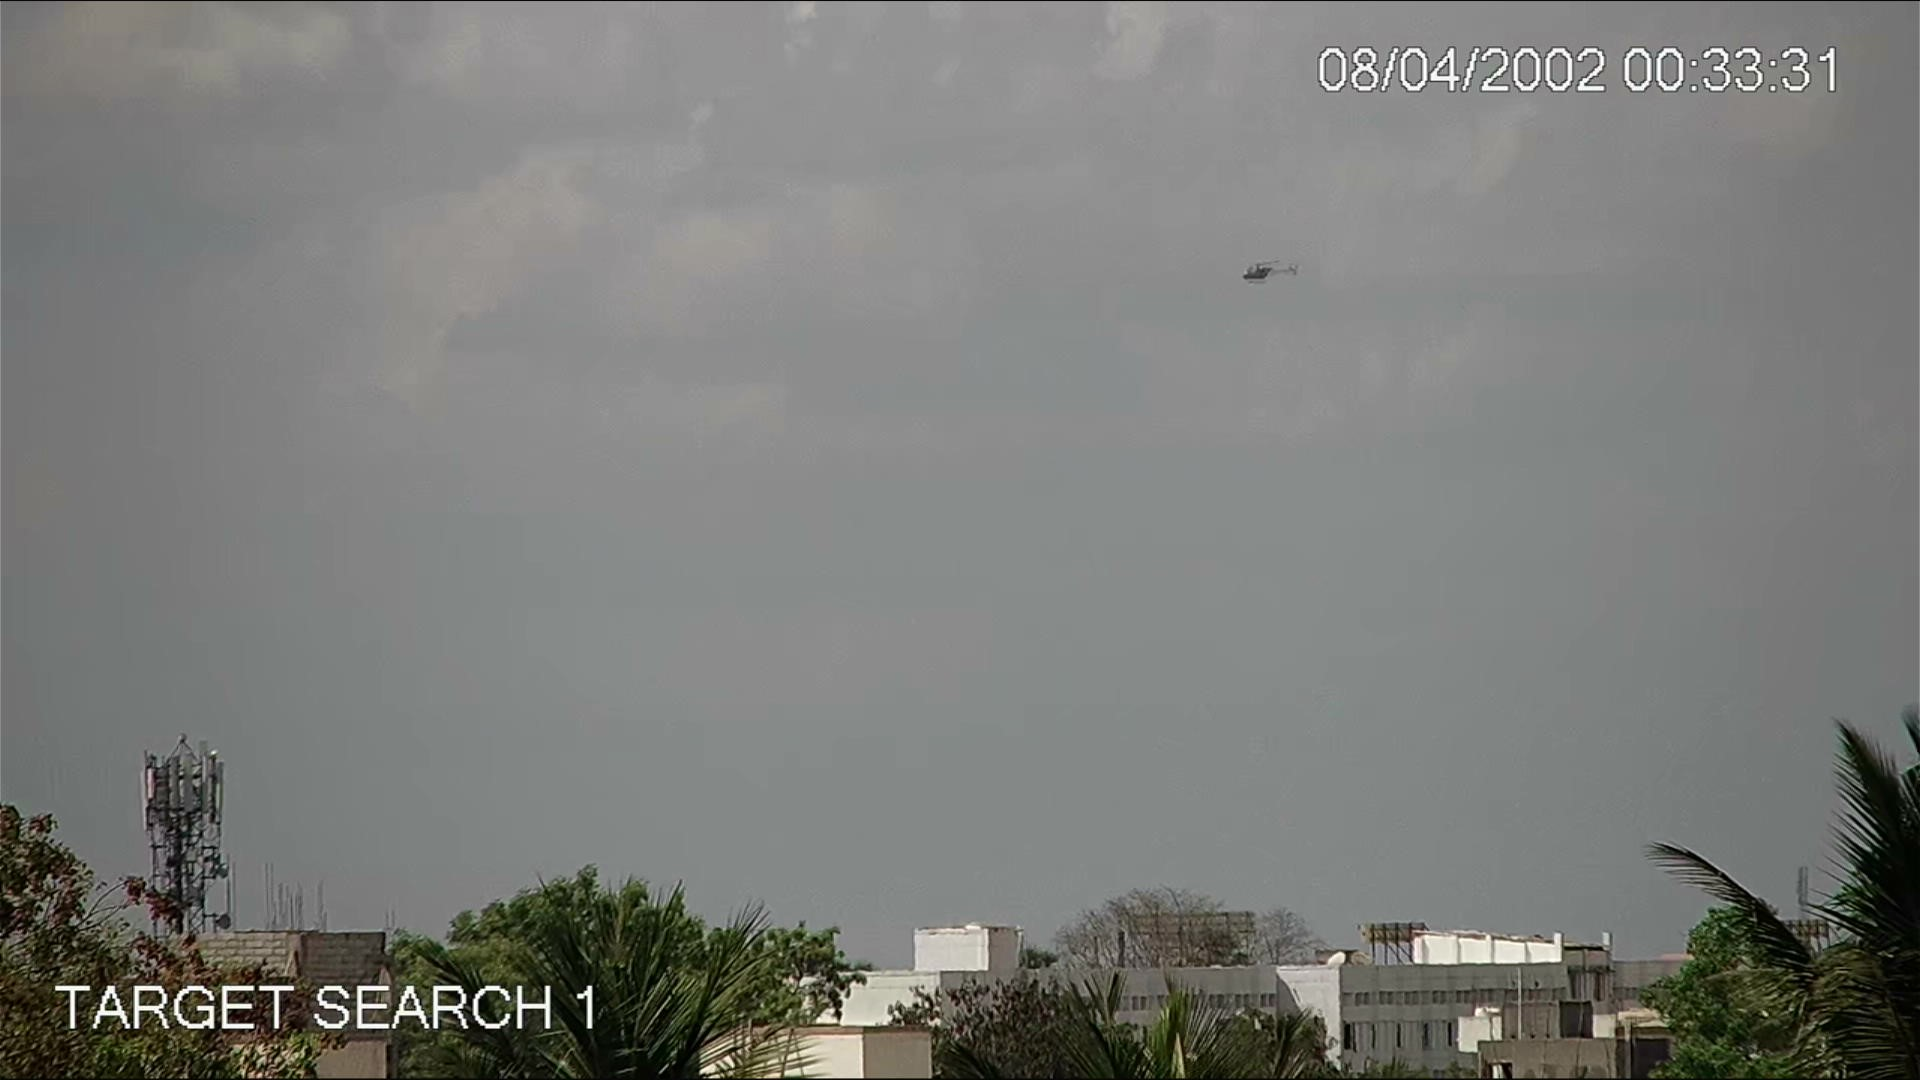SU_30: (1240, 258, 1304, 289)
